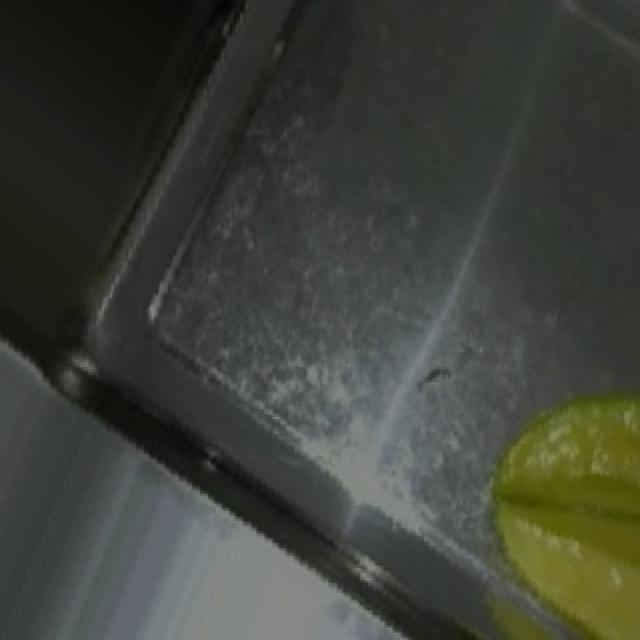fruit: (454, 347, 640, 640)
